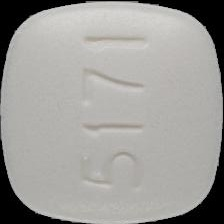66116-428: (0, 0, 224, 224)
